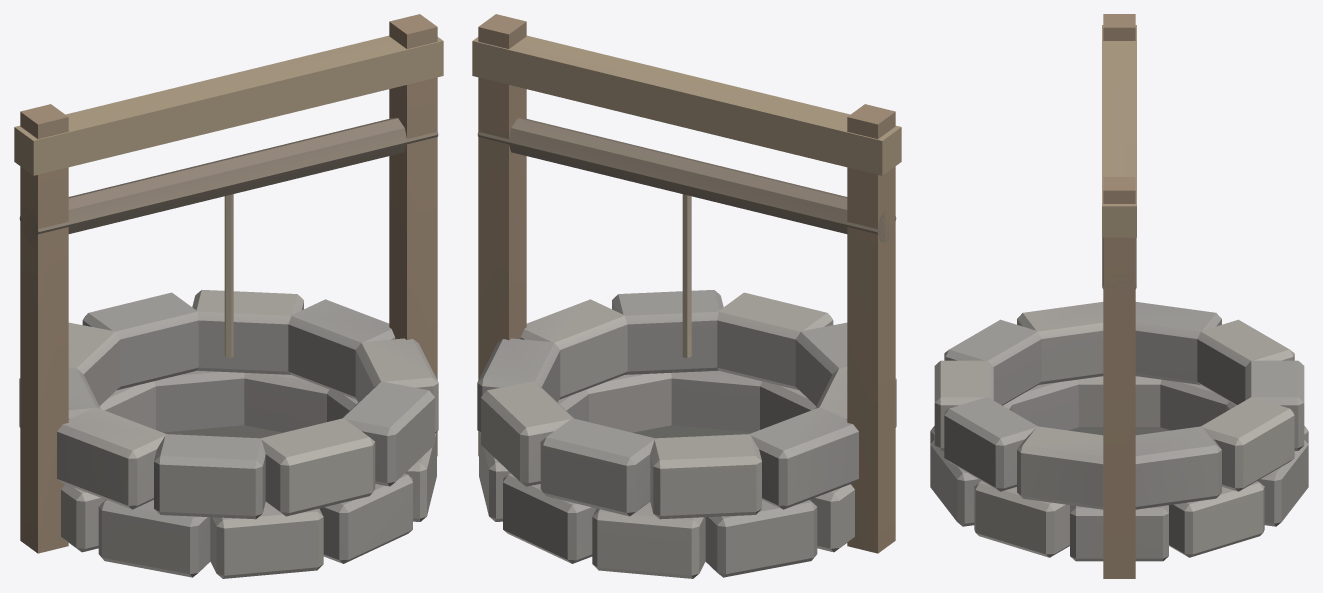
Rendered from AV_Well.glb.
3 renders of one model, left to right at view 1: azimuth 30°, elevation 25°; view 2: azimuth 150°, elevation 25°; view 3: azimuth 270°, elevation 25°, orthographic. The views are drawn at different scales.
Visible parts, largest first — view 1: Body; view 2: Body; view 3: Body.
Boxes of the visible parts, left/top/right/bottom form: Body: left=14, top=14, right=443, bottom=578; Body: left=472, top=14, right=901, bottom=578; Body: left=930, top=14, right=1308, bottom=578.
Size of the model in its own units: 8 by 8 by 7.07.
